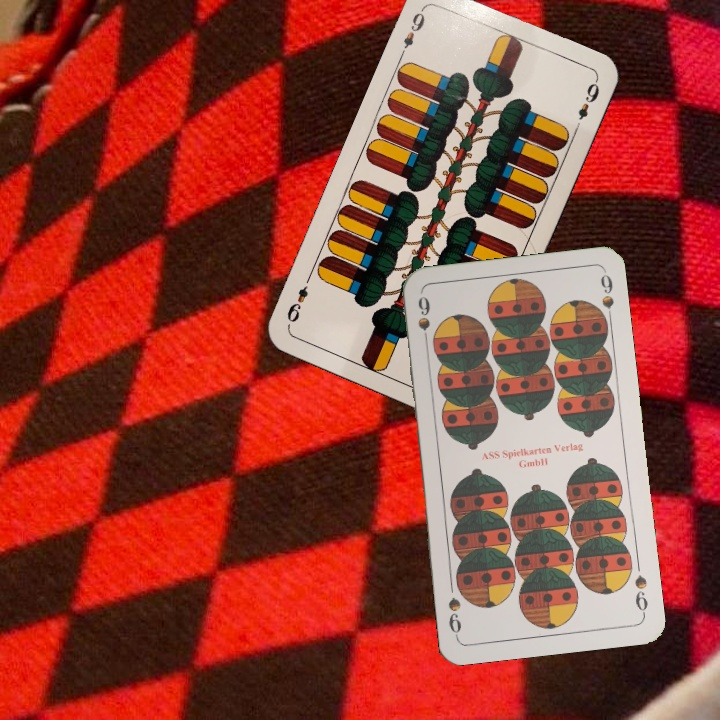E9: (396, 3, 428, 59)
S9: (413, 292, 433, 351), (630, 571, 650, 618)
